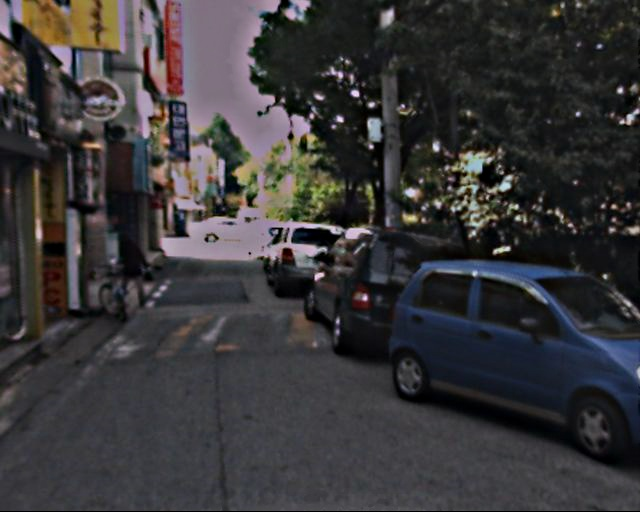person: (110, 225, 146, 308)
